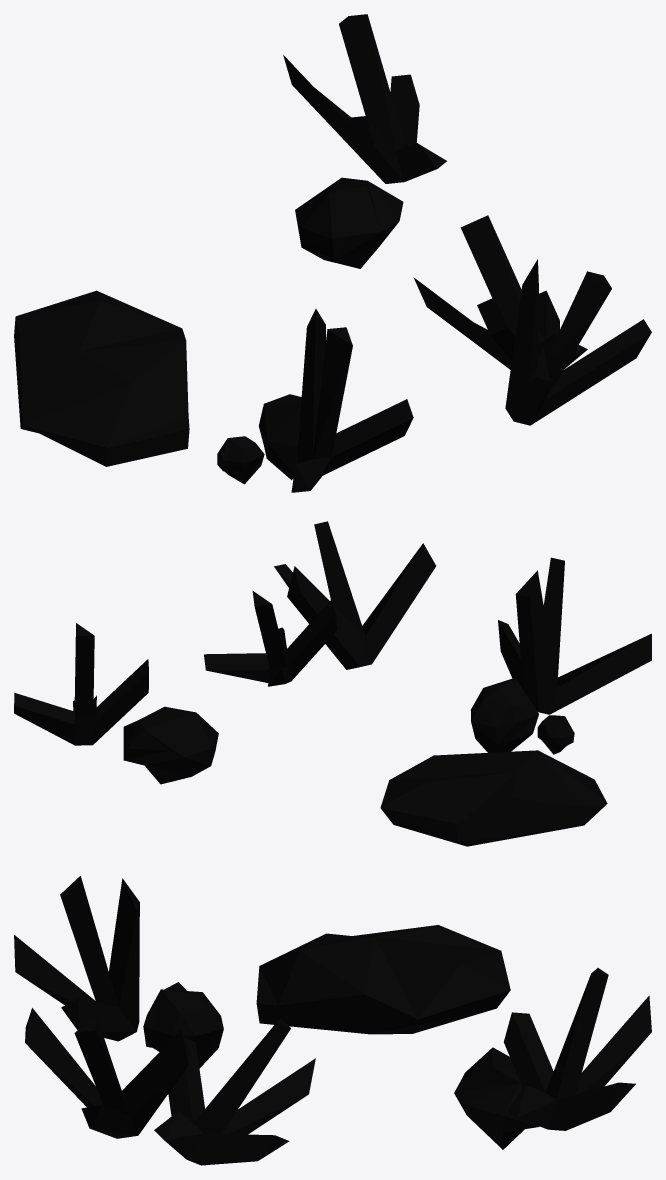
File: plane_swamp_grass02.FBX
3 views of the same model, one above another, from view 1: azimuth 30°, elevation 25°; view 2: azimuth 150°, elevation 25°; view 3: azimuth 270°, elevation 25° (orthographic). The views are drawn at different scales.
Parts seen in each view (by area): view 1: Box003, Box001, Box010, Box004, Box008, Box007, Box005, Box009; view 2: Box003, Box004, Box001, Box010, Box007, Box008, Box005, Box009; view 3: Box003, Box010, Box008, Box004, Box001, Box007, Box005.
Part boxes in pixels (<box>): Box003: <box>14,290,189,466</box>; Box001: <box>505,259,651,425</box>; Box010: <box>283,14,446,183</box>; Box004: <box>291,309,413,492</box>; Box008: <box>413,215,587,369</box>; Box007: <box>295,177,403,268</box>; Box005: <box>259,394,301,480</box>; Box009: <box>217,436,264,484</box>; Box003: <box>380,750,607,846</box>; Box004: <box>498,557,651,714</box>; Box001: <box>274,521,435,669</box>; Box010: <box>14,623,148,745</box>; Box007: <box>123,706,218,784</box>; Box008: <box>204,591,337,686</box>; Box005: <box>470,678,538,752</box>; Box009: <box>537,715,574,754</box>; Box003: <box>256,925,510,1034</box>; Box010: <box>504,968,651,1130</box>; Box008: <box>154,1018,315,1165</box>; Box004: <box>14,876,139,1041</box>; Box001: <box>25,1008,189,1138</box>; Box007: <box>454,1047,539,1149</box>; Box005: <box>143,989,223,1068</box>.
Size of the model in its own units: 33.97 by 14.68 by 35.78.
1 material, 1 textured.
